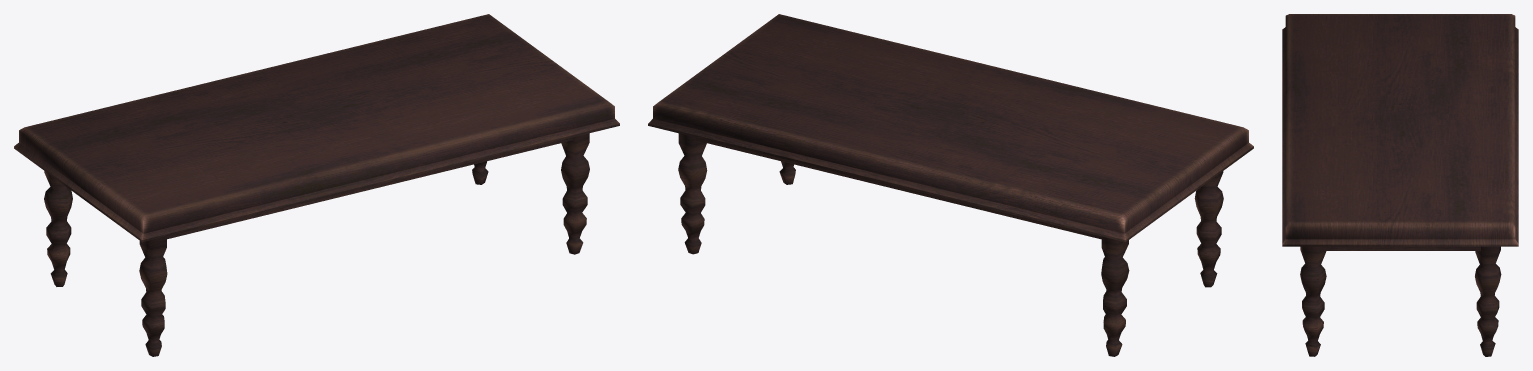
The model's file is table_nice02_lightbrown.dae.
The picture shows the model from 3 angles, left to right: view 1: azimuth 30°, elevation 25°; view 2: azimuth 150°, elevation 25°; view 3: azimuth 270°, elevation 25°; orthographic projection. The views are drawn at different scales.
Visible parts, largest first — view 1: table_nice02_mesh; view 2: table_nice02_mesh; view 3: table_nice02_mesh.
Boxes of the visible parts, x1=… form: table_nice02_mesh: x1=14, y1=14, x2=619, y2=356; table_nice02_mesh: x1=648, y1=14, x2=1253, y2=356; table_nice02_mesh: x1=1282, y1=14, x2=1518, y2=356.
Bounding box in the file's own units: 2.89 × 0.8892 × 1.34.
